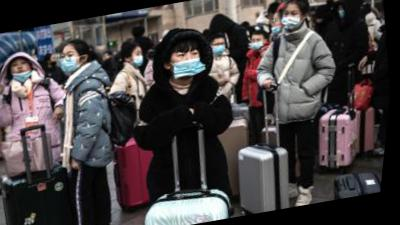OK: (281, 6, 307, 32), (60, 49, 84, 75), (132, 49, 149, 70), (213, 40, 231, 57), (251, 35, 267, 51), (337, 5, 349, 19)
WRONG: (169, 47, 207, 81), (12, 58, 36, 82), (270, 14, 287, 36)
